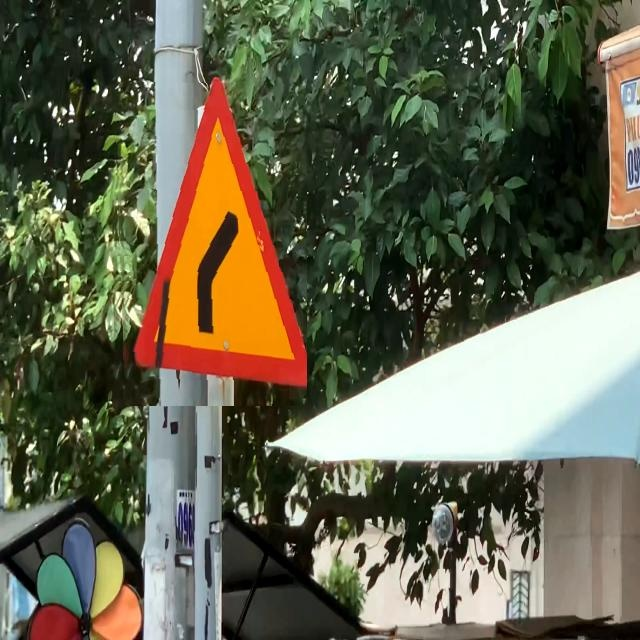bien_nguy_hiem: (113, 68, 307, 406)
